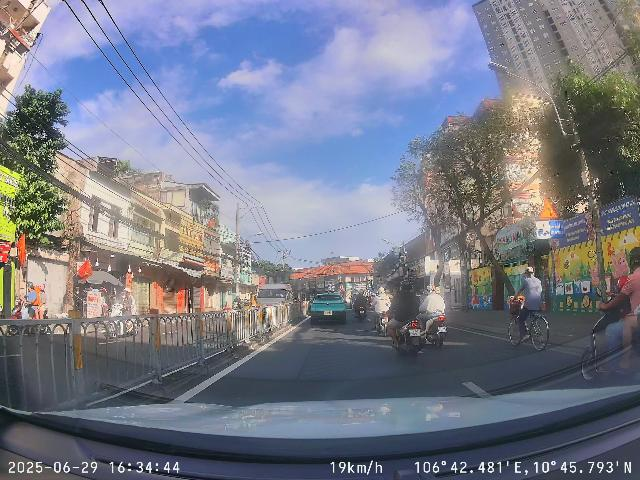201-cho-ngoat-nguy-hiem: (539, 198, 559, 219)
